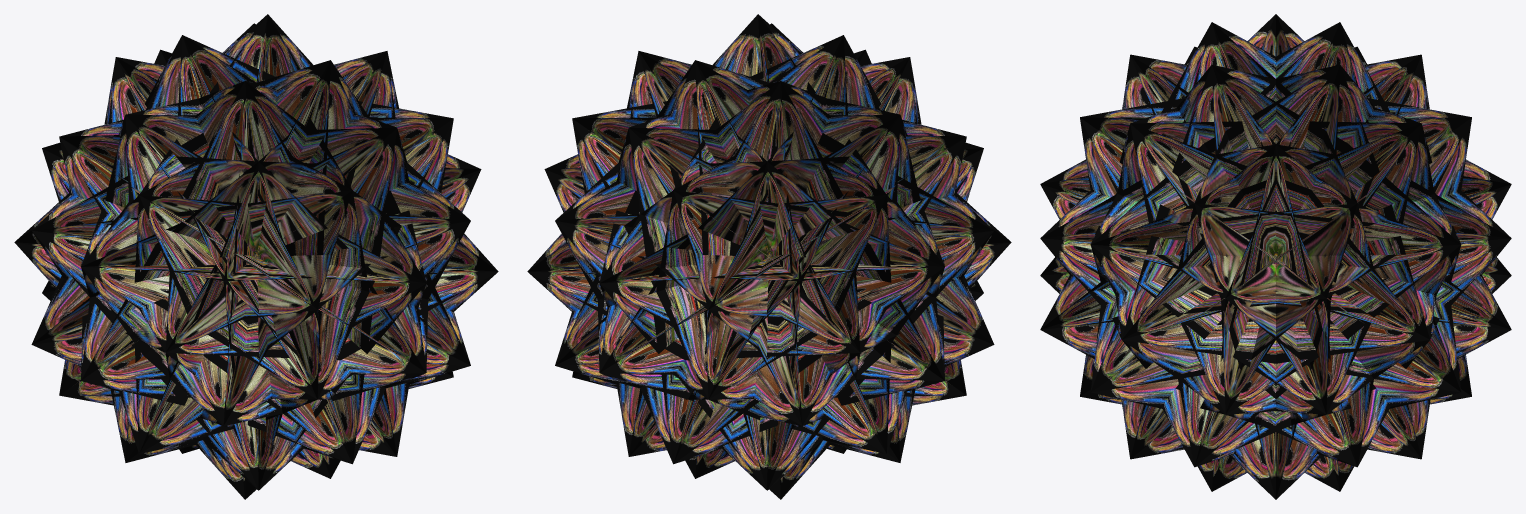
Rendered from GreatDirhombicosidodecahedron9.gltf.
3 renders of one model, left to right at view 1: azimuth 30°, elevation 25°; view 2: azimuth 150°, elevation 25°; view 3: azimuth 270°, elevation 25°, orthographic. The views are drawn at different scales.
Visible parts, largest first — view 1: GreatDirhombicosidodecahedron9; view 2: GreatDirhombicosidodecahedron9; view 3: GreatDirhombicosidodecahedron9.
Part boxes in pixels (x1,y1,x2,y2): GreatDirhombicosidodecahedron9: (14, 14, 498, 499); GreatDirhombicosidodecahedron9: (527, 14, 1011, 499); GreatDirhombicosidodecahedron9: (1040, 14, 1511, 499).
Bounding box in the file's own units: 1.34 × 1.34 × 1.34.
Materials: 1 (1 with a texture image).
